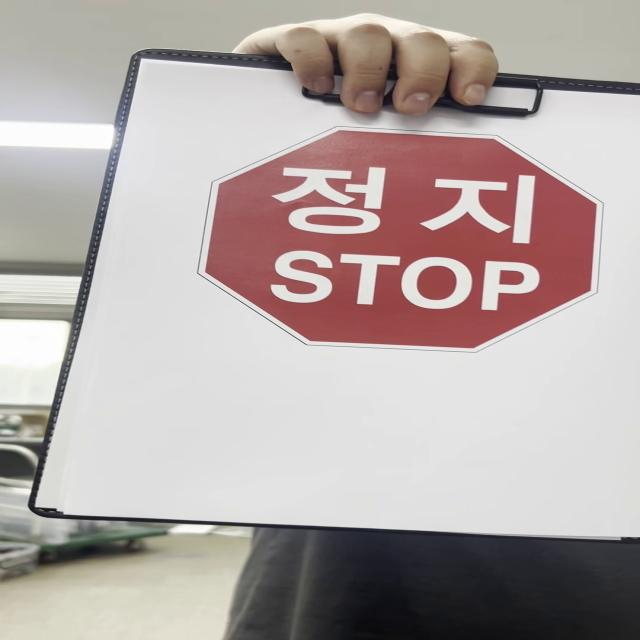stop: (188, 128, 606, 355)
